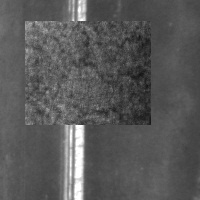crazing: (25, 21, 151, 125)
scratches: (56, 1, 88, 199)
